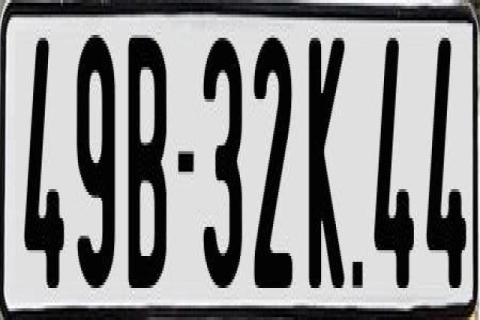0: (372, 35, 419, 285), (202, 29, 246, 294), (75, 32, 115, 288), (22, 29, 60, 297), (251, 29, 290, 285), (424, 32, 460, 300)
B: (128, 29, 166, 285)
K: (308, 35, 349, 303)
